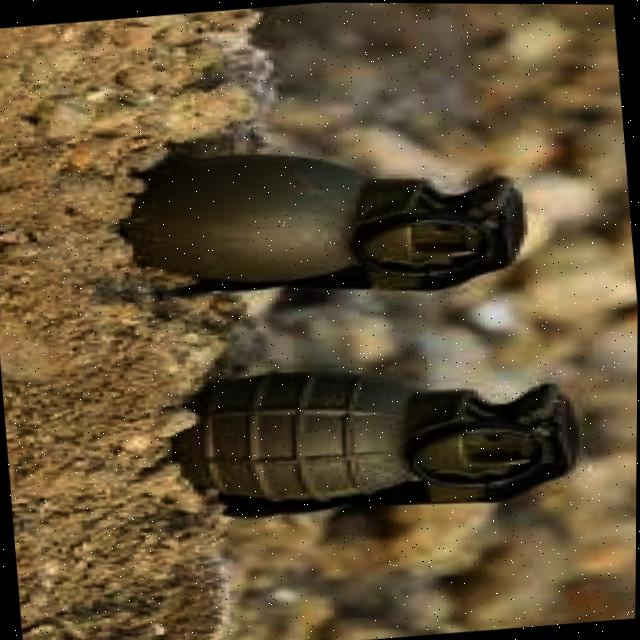grenade: (115, 115, 549, 323), (159, 336, 596, 539)
